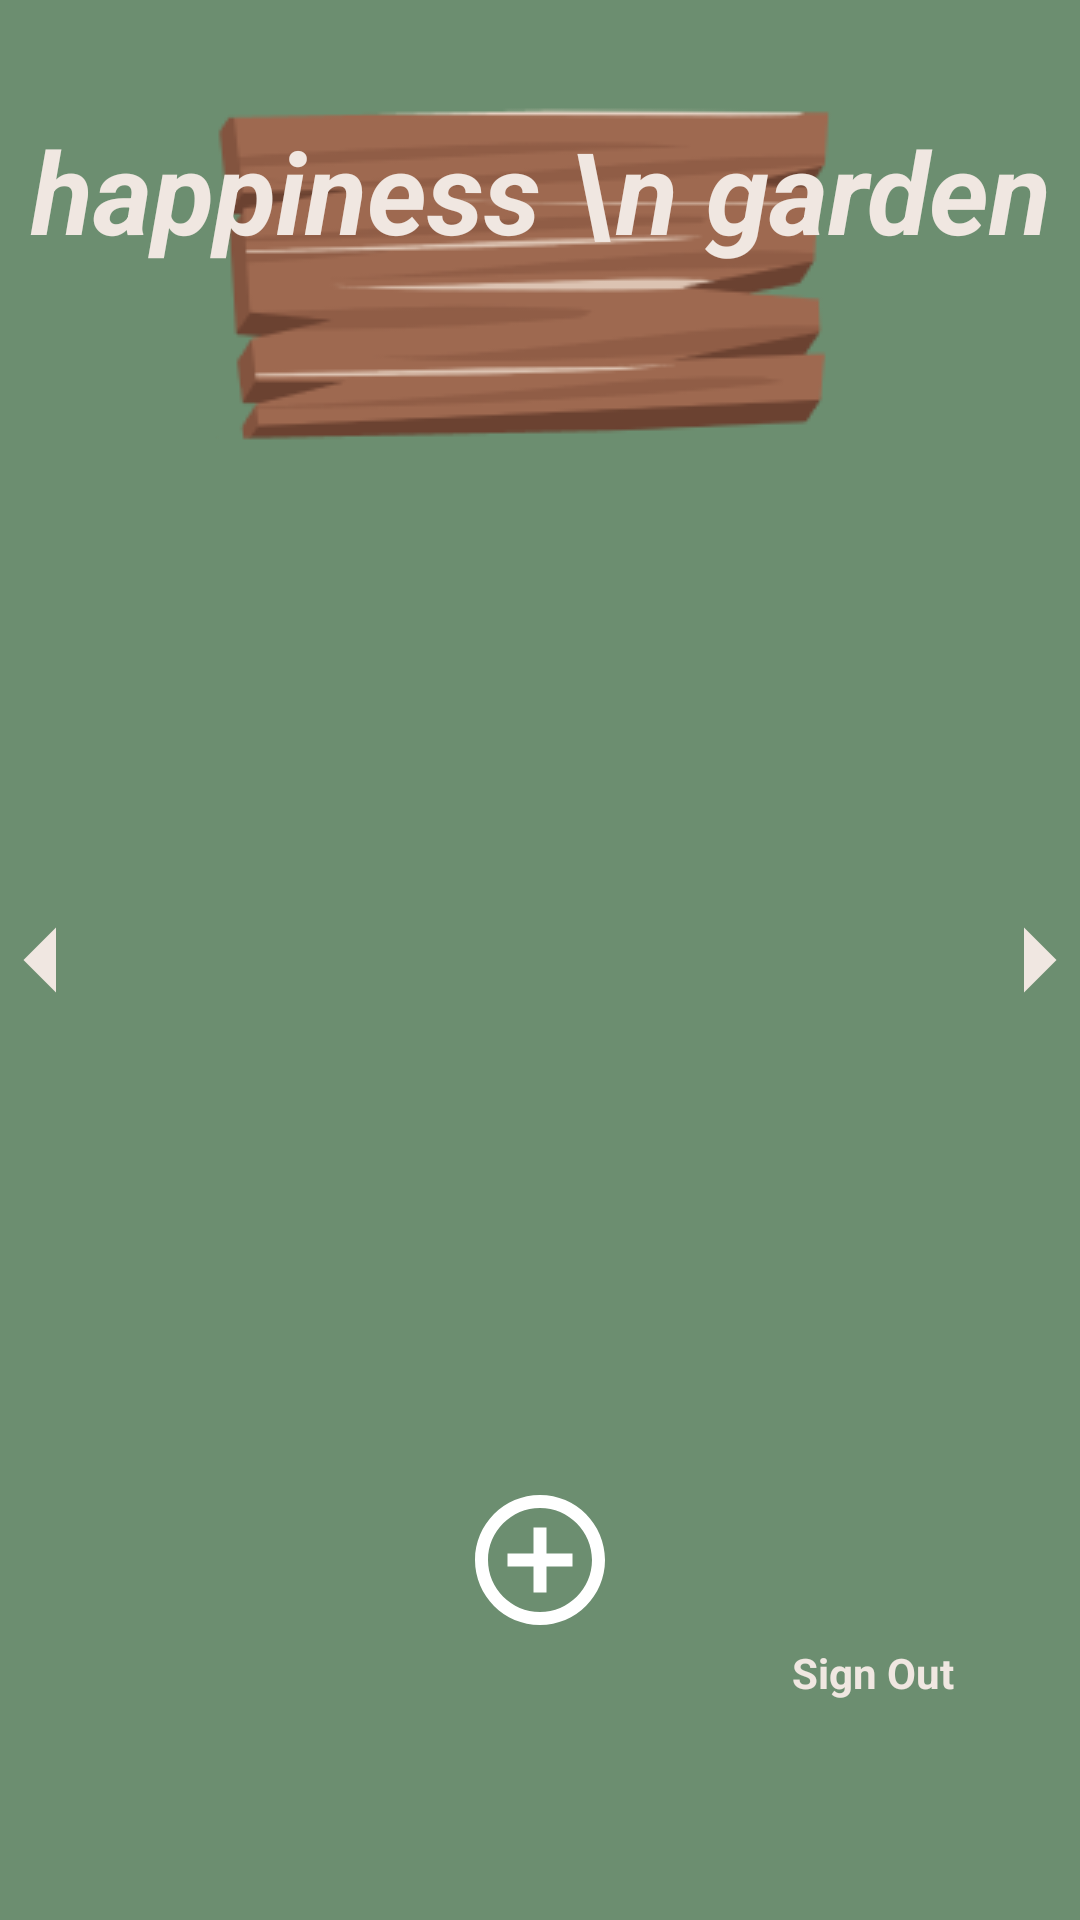

Point at icon controls on the screen. Image size 1080 x 1920, points as point (x, y).
add circle: point (540, 1560)
